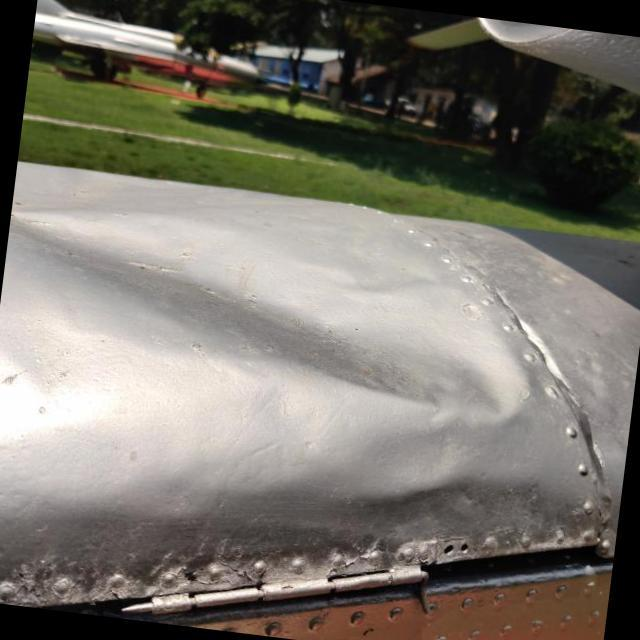Dent: (0, 155, 583, 479)
